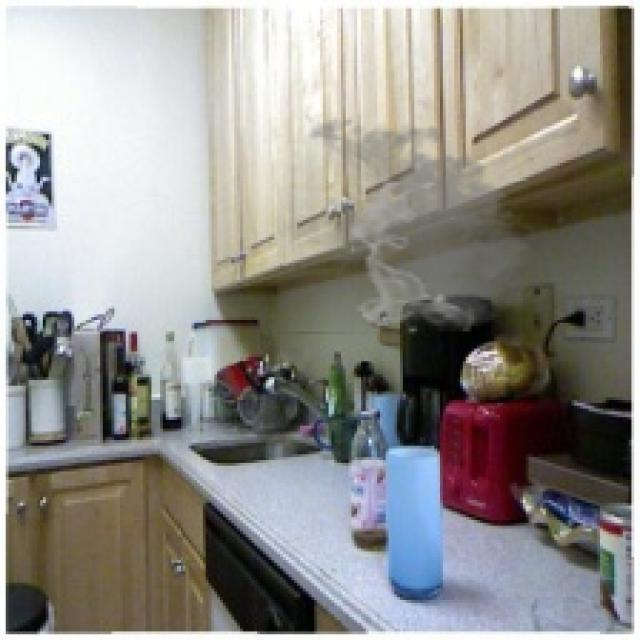smoke: (277, 112, 546, 334)
